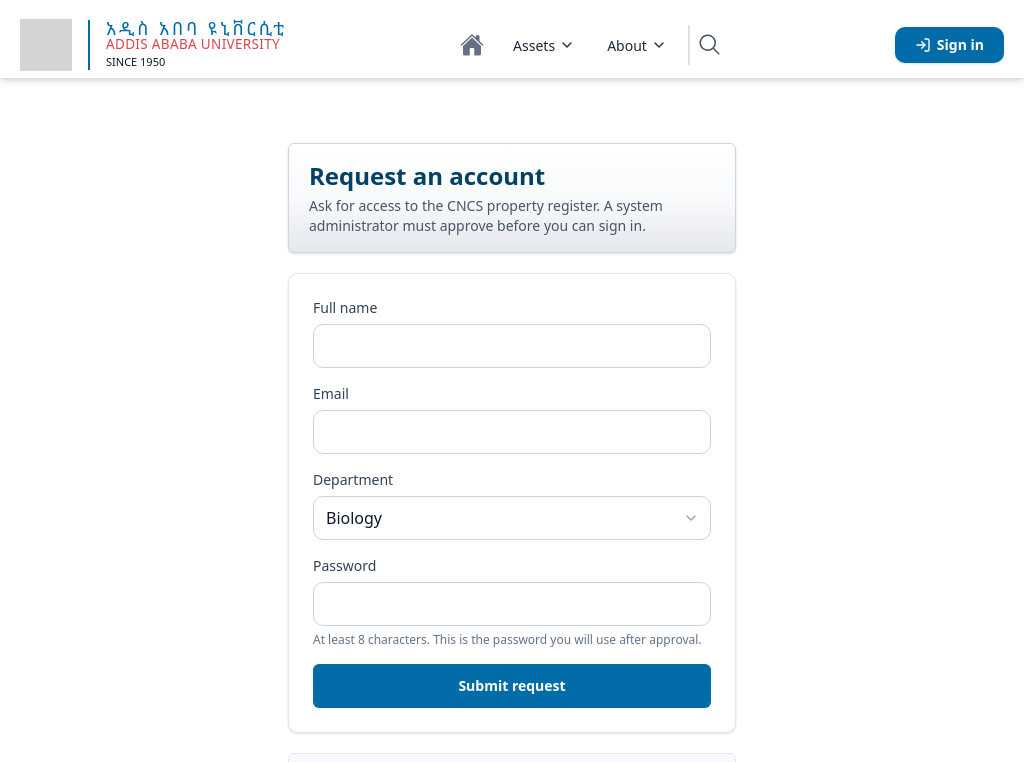
Test: RequestAccountPage › submits to account-requests and shows the confirmation
The width and height of the screenshot is (1024, 762).
Expected: the heading "Request an account" is shown, [309,159,545,192]
Step 1. Type "New Person" into the field labelled "Full name" → (512, 346), box [313,324,711,368]
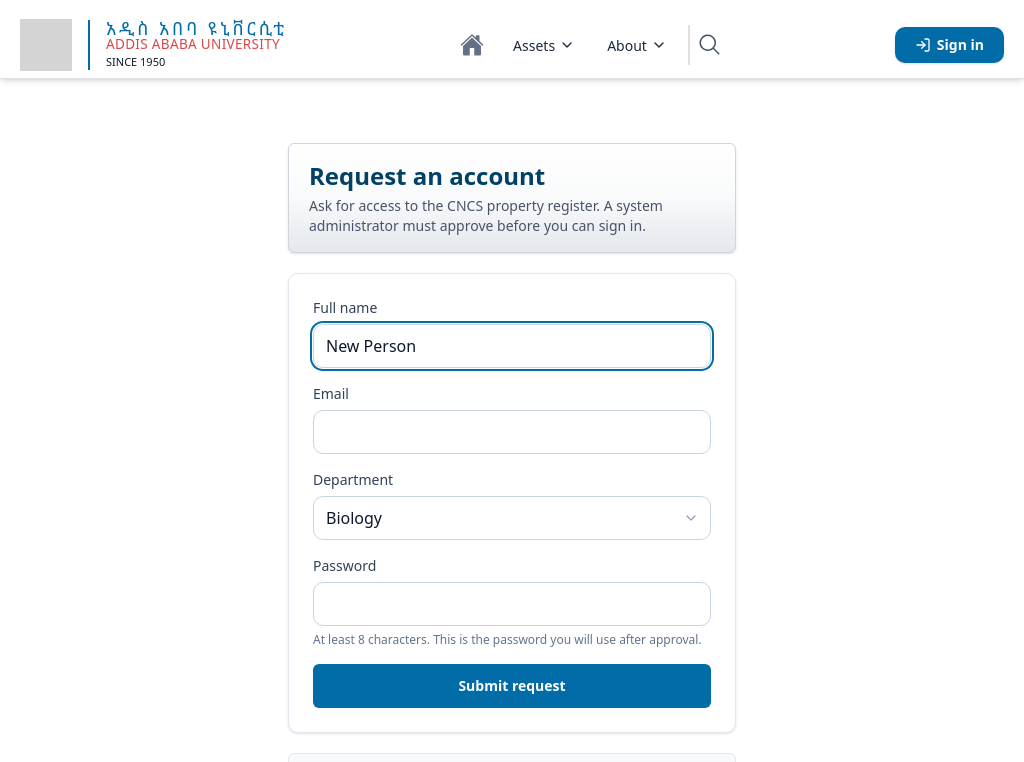
Step 2. Type "new.person@aau.edu.et" into the field labelled "Email" → (512, 432), box [313,410,711,454]
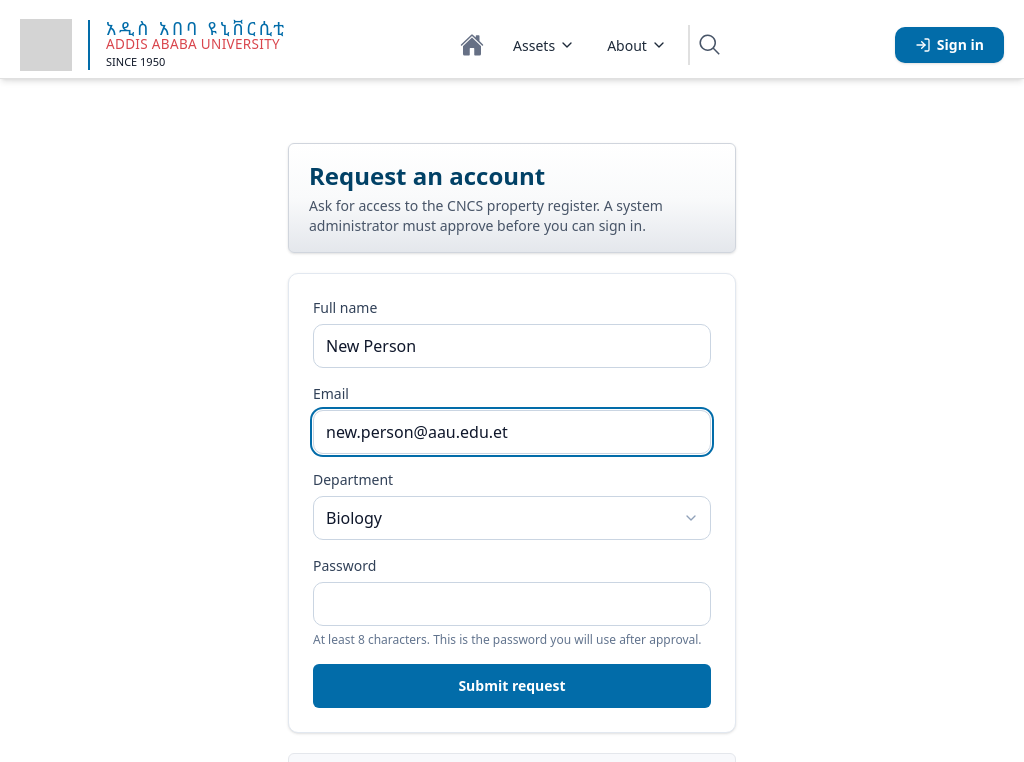
Step 3. Type "SecurePass1" into the password field labelled "Password" → (512, 604), box [313,582,711,626]
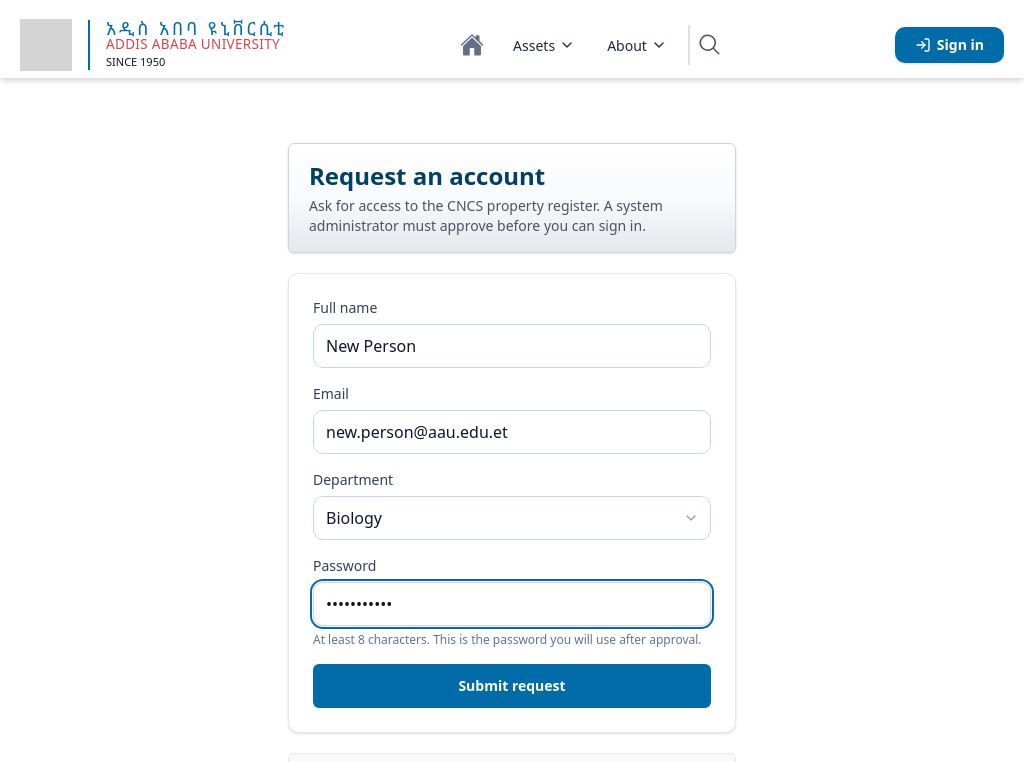
Step 4. Select "Biology" in the dropdown labelled "Department" → (512, 518), box [313,496,711,540]
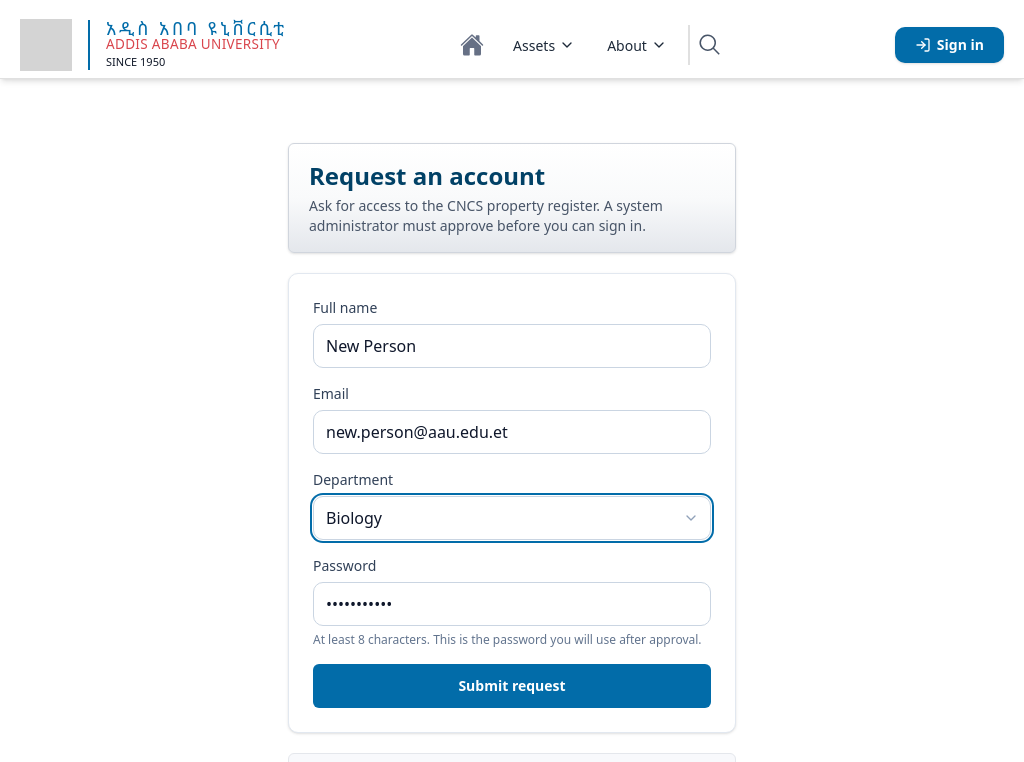
Step 5. Click the button "Submit request" → (512, 686), box [313,664,711,708]
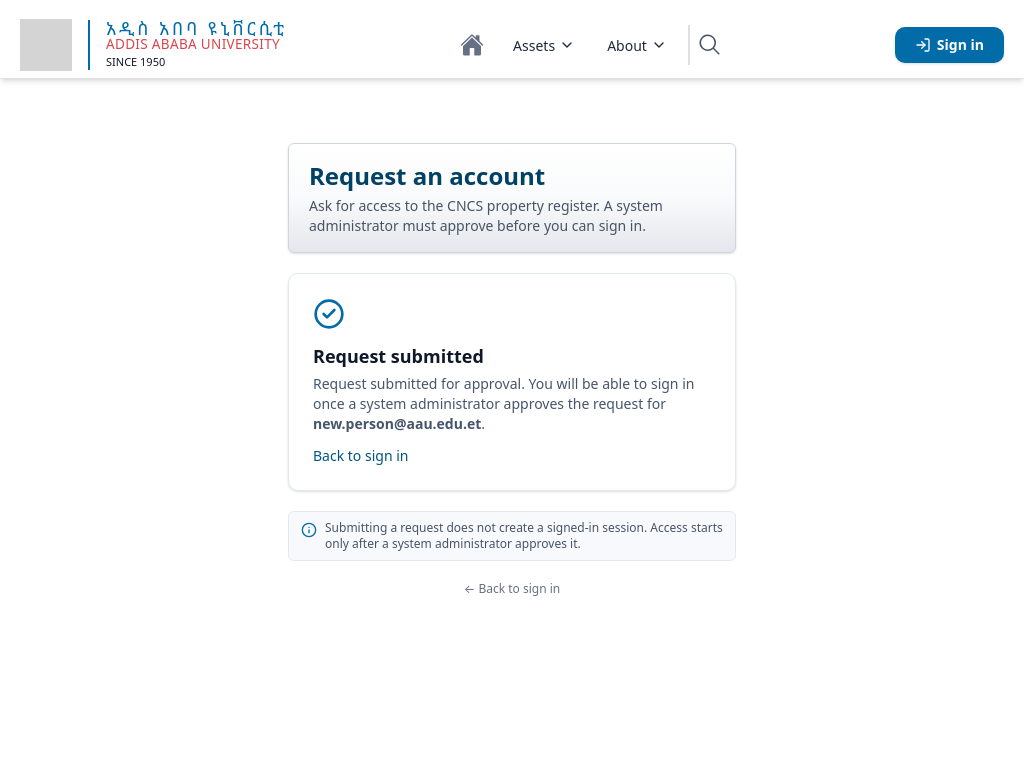
Now the heading "Request submitted" is shown, box [313,344,484,368]
Now the text "new.person@aau.edu.et" is shown, box [313,414,481,433]
Now the button "Submit request" is gone
